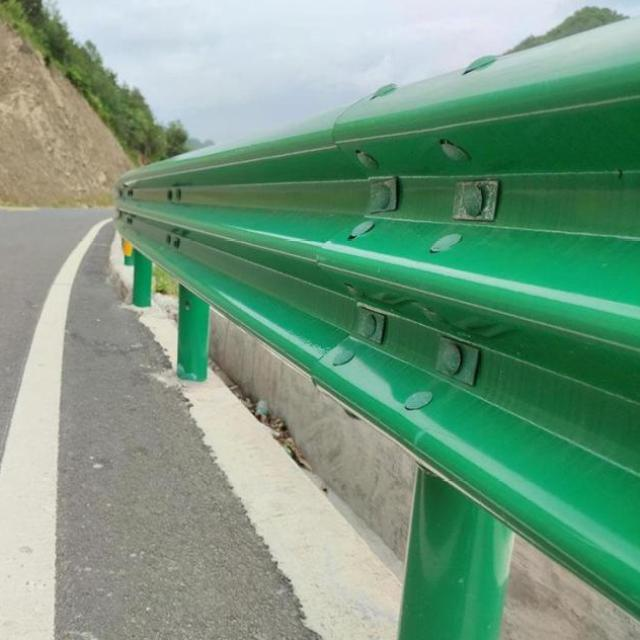Guard rail: (116, 18, 640, 640)
